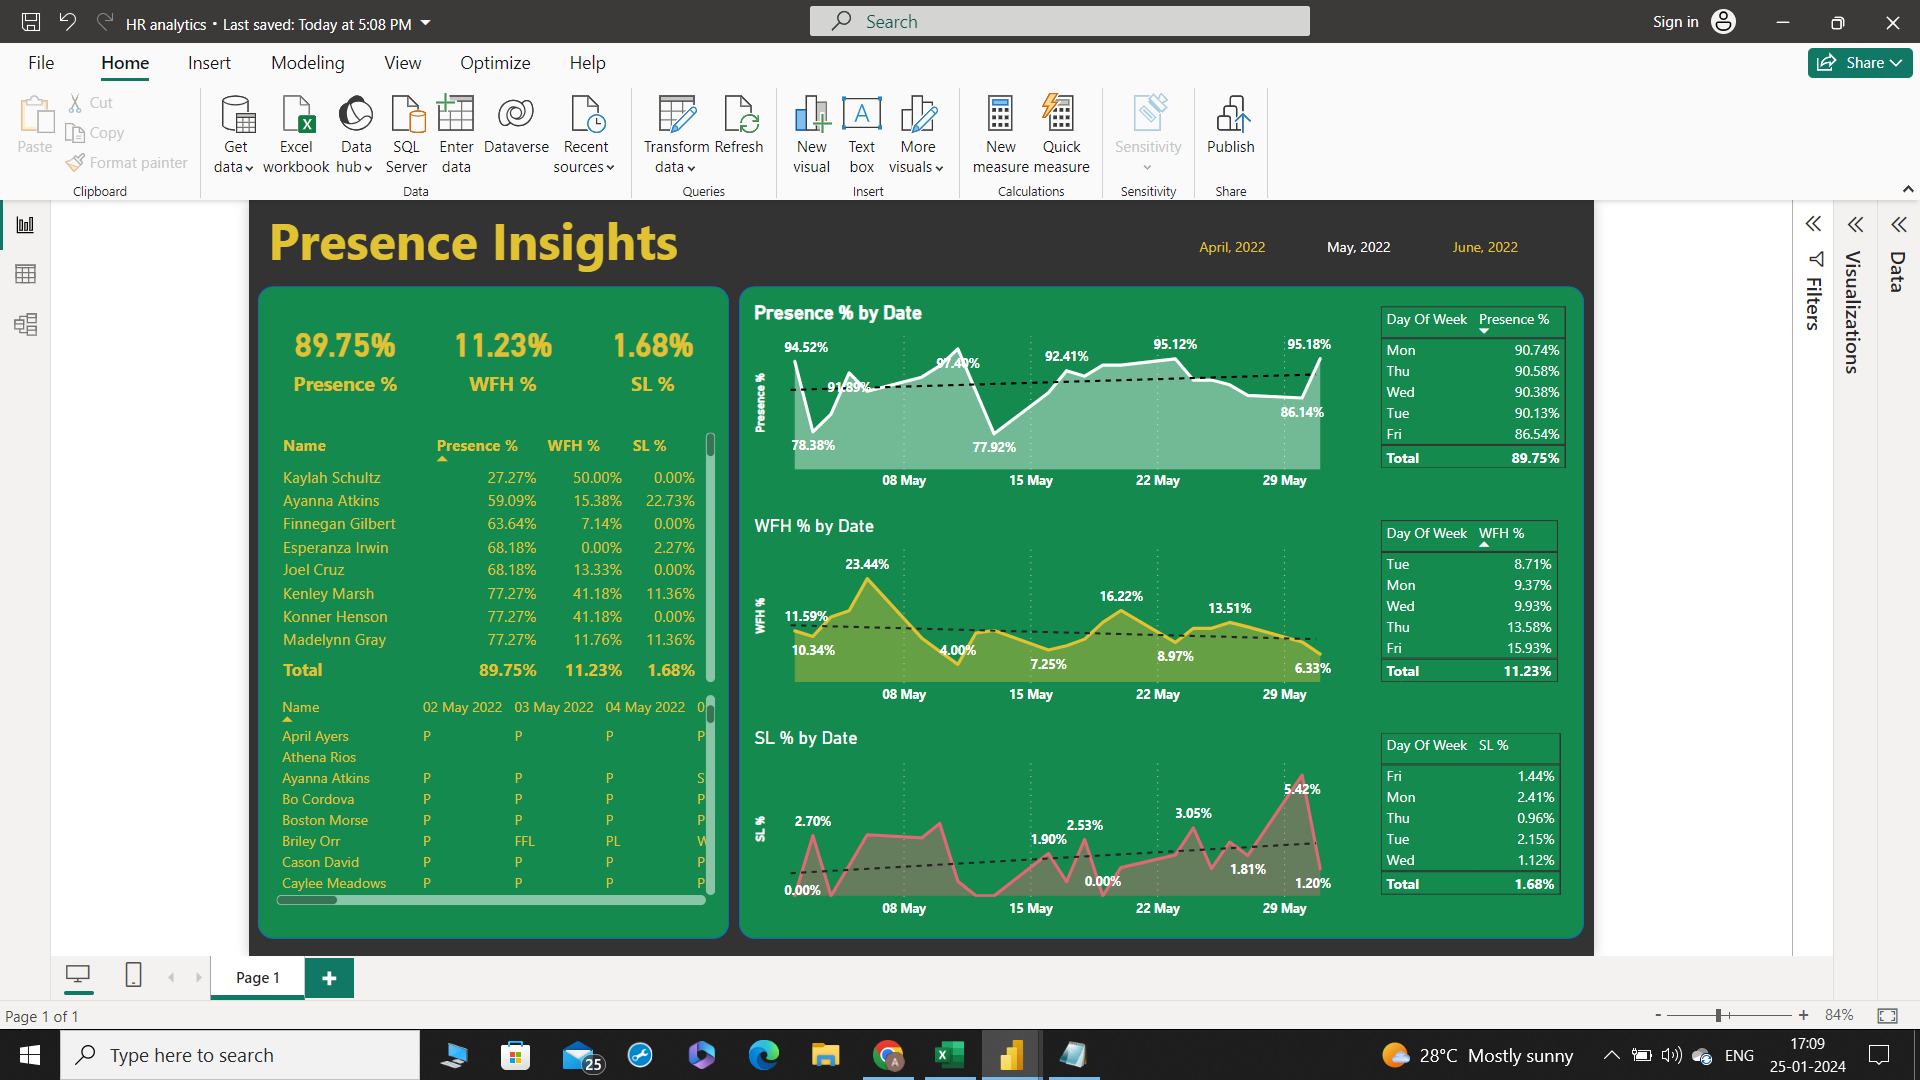

This screenshot's page, from the dashboard's own definition file:
{"tool":"powerbi","page":{"name":"Page 1","canvas":[1280,720],"ordinal":0},"visuals":[{"type":"shape","box":[8.3,82.1,448.7,621.2],"z":0},{"type":"shape","box":[466.5,82.1,804.5,621.2],"z":1000},{"type":"card","fields":{"Values":["Measure Table.Presence %"]},"box":[21.4,96.4,140.4,104.7],"z":2000},{"type":"slicer","fields":{"Values":["Final Data.Month"]},"box":[850.9,15.5,409.4,58.3],"z":3000},{"type":"card","fields":{"Values":["Measure Table.WFH %"]},"box":[185.7,96.4,111.9,104.7],"z":4000},{"type":"card","fields":{"Values":["Measure Table.SL %"]},"box":[320.1,96.4,128.5,104.7],"z":5000},{"type":"tableEx","fields":{"Values":["Final Data.Name","Measure Table.Presence %","Measure Table.WFH %","Measure Table.SL %"]},"box":[21.4,216.6,427.2,247.5],"z":6000},{"type":"textbox","box":[0,0,427.2,80.9],"z":7000},{"type":"pivotTable","fields":{"Rows":["Final Data.Name"],"Columns":["Final Data.Date"],"Values":["Min(Final Data.Value)"]},"box":[21.4,466.5,427.2,209.5],"z":8000},{"type":"areaChart","fields":{"Y":["Measure Table.Presence %"],"Category":["Final Data.Date"]},"box":[476,96.4,570,189.2],"z":9000},{"type":"areaChart","fields":{"Y":["Measure Table.WFH %"],"Category":["Final Data.Date"]},"box":[476,299.9,570,189.2],"z":10000},{"type":"areaChart","fields":{"Y":["Measure Table.SL %"],"Category":["Final Data.Date"]},"box":[476,502.2,570,190.4],"z":11000},{"type":"tableEx","fields":{"Values":["Final Data.Day Of Week","Measure Table.Presence %"]},"box":[1071.1,96.4,189.2,174.9],"z":12000},{"type":"tableEx","fields":{"Values":["Final Data.Day Of Week","Measure Table.WFH %"]},"box":[1071.1,299.9,189.2,164.2],"z":13000},{"type":"tableEx","fields":{"Values":["Final Data.Day Of Week","Measure Table.SL %"]},"box":[1071.1,502.2,189.2,164.2],"z":14000}]}

Visuals, with their boxes on the page's 1280x720 design canvas (x1, y1, x2, y2). These are canvas units, not pixel positions in the 1920x1080 screenshot, which may show the page scaled, cropped or inside an application window:
shape: 8, 82, 457, 703
shape: 466, 82, 1271, 703
card - Measure Table.Presence %: 21, 96, 162, 201
slicer - Final Data.Month: 851, 16, 1260, 74
card - Measure Table.WFH %: 186, 96, 298, 201
card - Measure Table.SL %: 320, 96, 449, 201
tableEx - Final Data.Name x Measure Table.Presence %: 21, 217, 449, 464
textbox: 0, 0, 427, 81
pivotTable - Final Data.Name x Final Data.Date: 21, 466, 449, 676
areaChart - Measure Table.Presence % x Final Data.Date: 476, 96, 1046, 286
areaChart - Measure Table.WFH % x Final Data.Date: 476, 300, 1046, 489
areaChart - Measure Table.SL % x Final Data.Date: 476, 502, 1046, 693
tableEx - Final Data.Day Of Week x Measure Table.Presence %: 1071, 96, 1260, 271
tableEx - Final Data.Day Of Week x Measure Table.WFH %: 1071, 300, 1260, 464
tableEx - Final Data.Day Of Week x Measure Table.SL %: 1071, 502, 1260, 666
